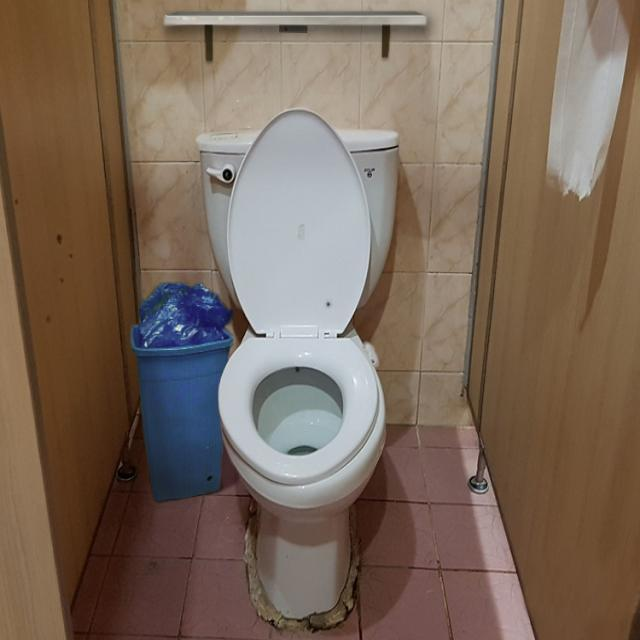hidden camera: (323, 297, 333, 310), (206, 474, 215, 485), (294, 366, 302, 375), (56, 234, 63, 244), (370, 355, 376, 366), (283, 25, 289, 33)
